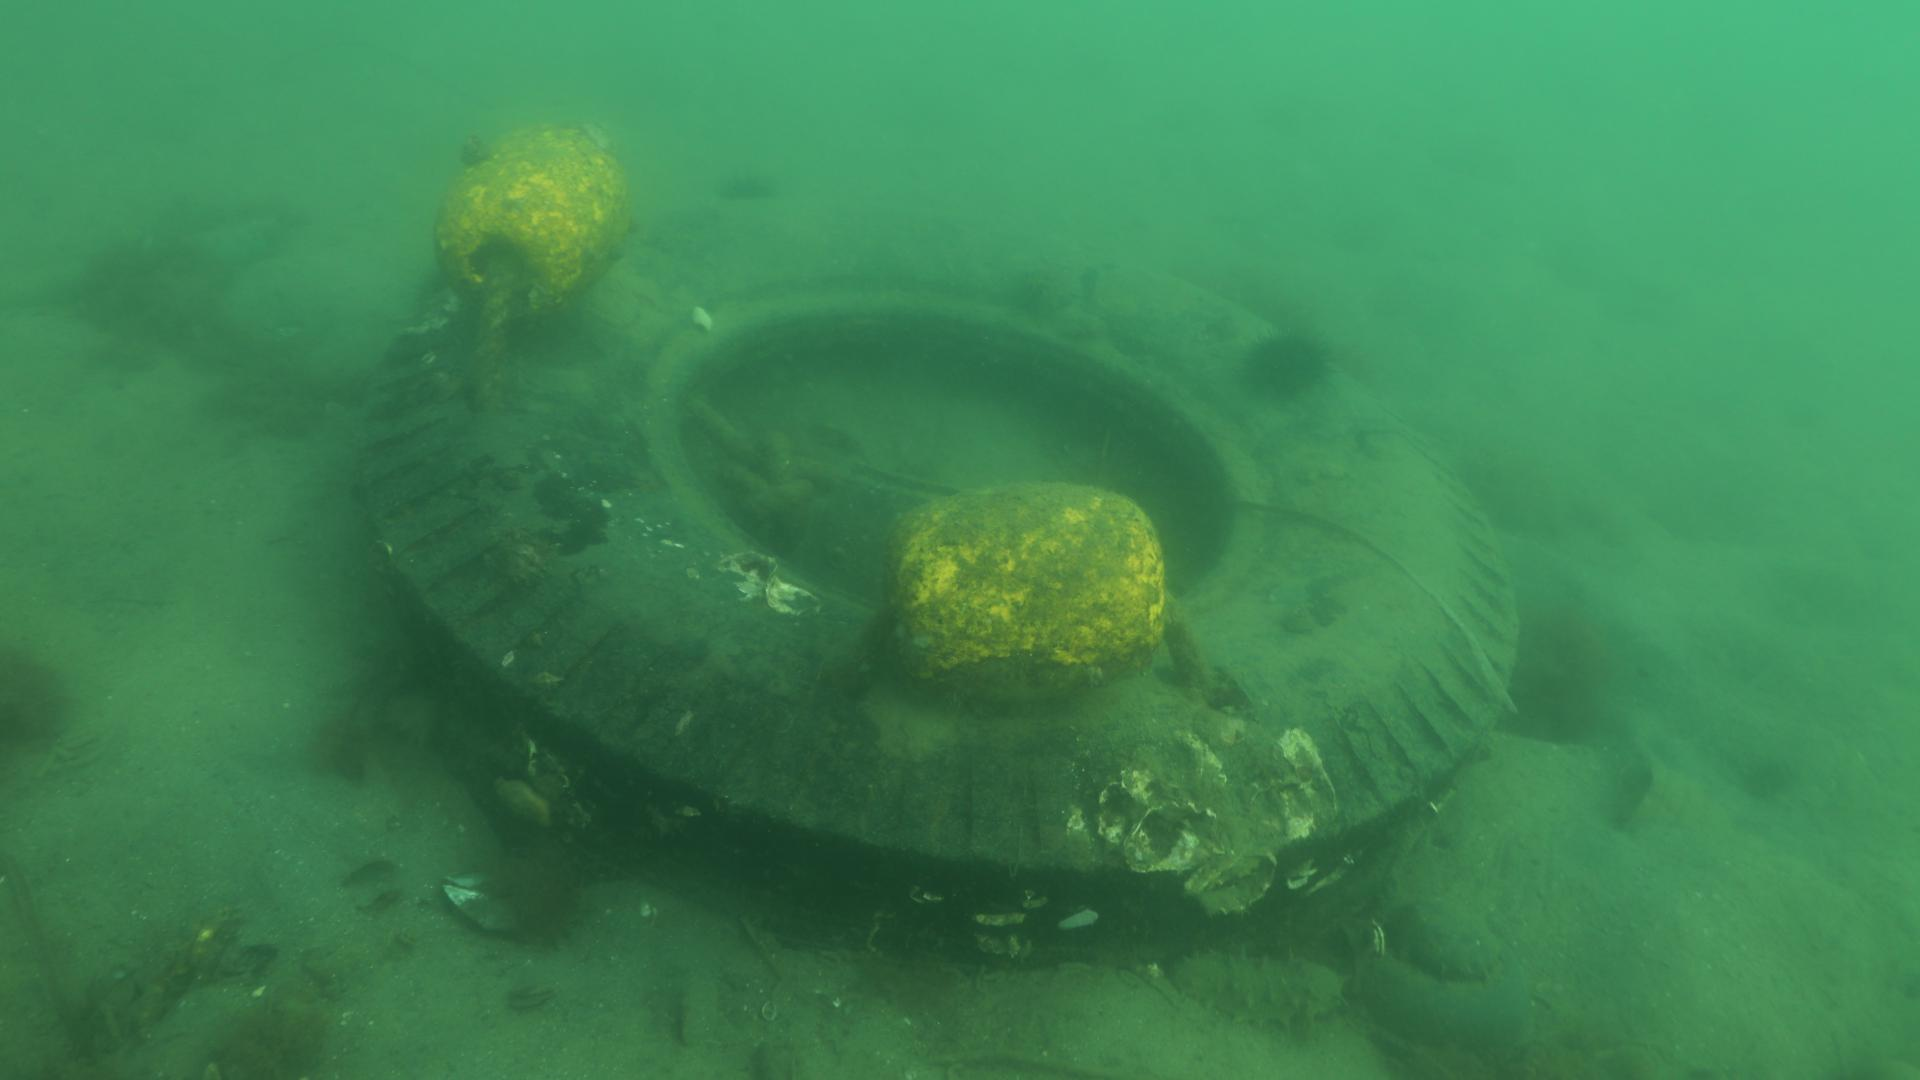tire: (353, 194, 1520, 967)
